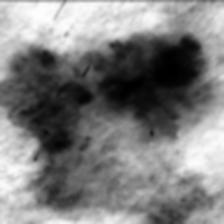Potentially Malignant Skin Tumors: (5, 30, 211, 224)
